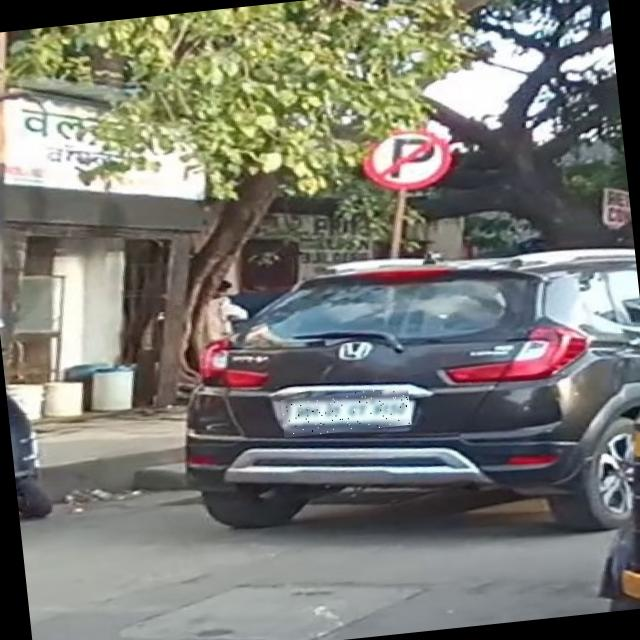Plate: (282, 388, 413, 439)
